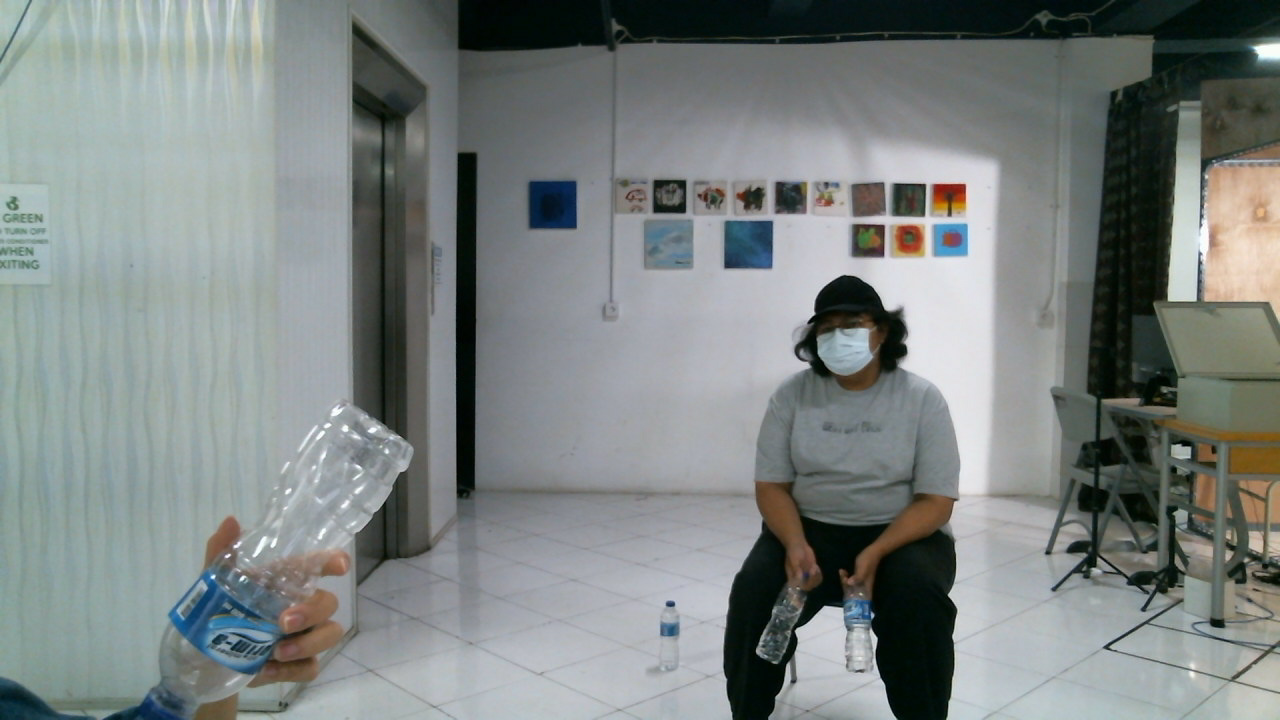Bottle: (136, 403, 413, 720)
